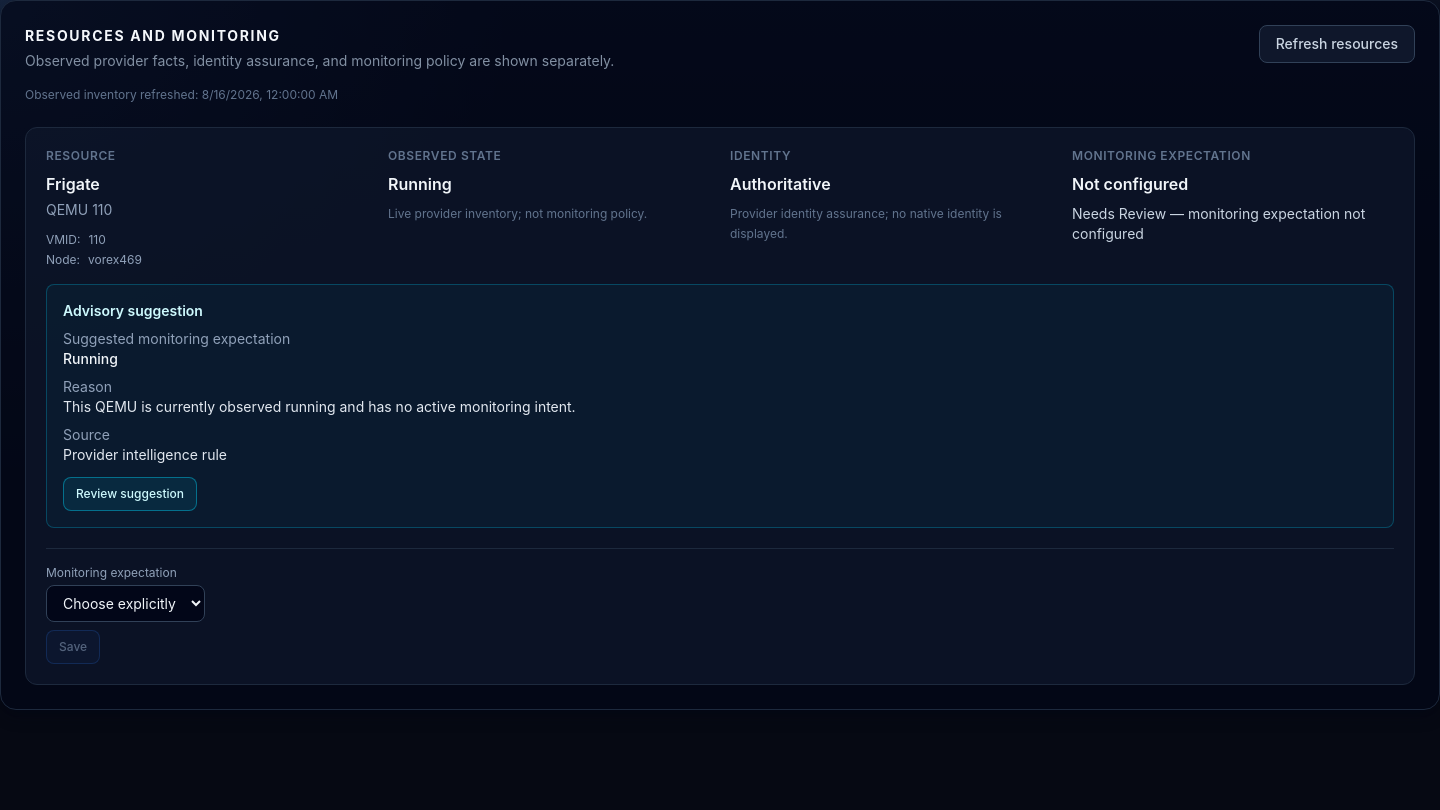
ProviderResources Provider Intent flow › reviews advisory state locally and mutates only on explicit Save
Expected: the heading "Frigate" is shown, [46,174,100,194]
Expected: the text "Not configured" is shown, [1072,174,1188,194]
Click the button "Review suggestion": (130, 494) [63,477,197,511]
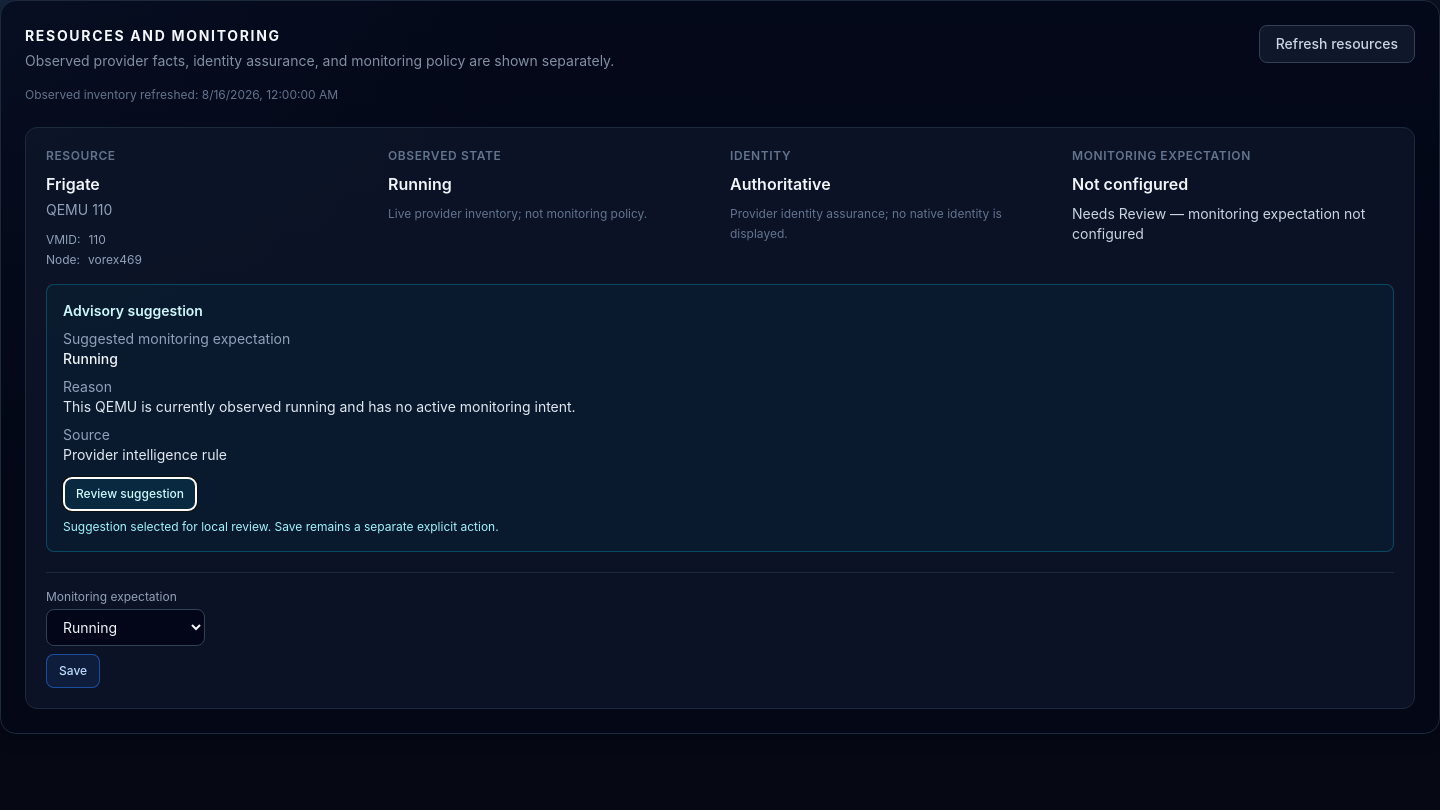
Expected: the text "Not configured" is shown, [1072,174,1188,194]
Result: the dropdown labelled "Monitoring expectation" shows "Running" at [46,609,205,646]
Click the button "Save": (73, 671) [46,654,100,688]
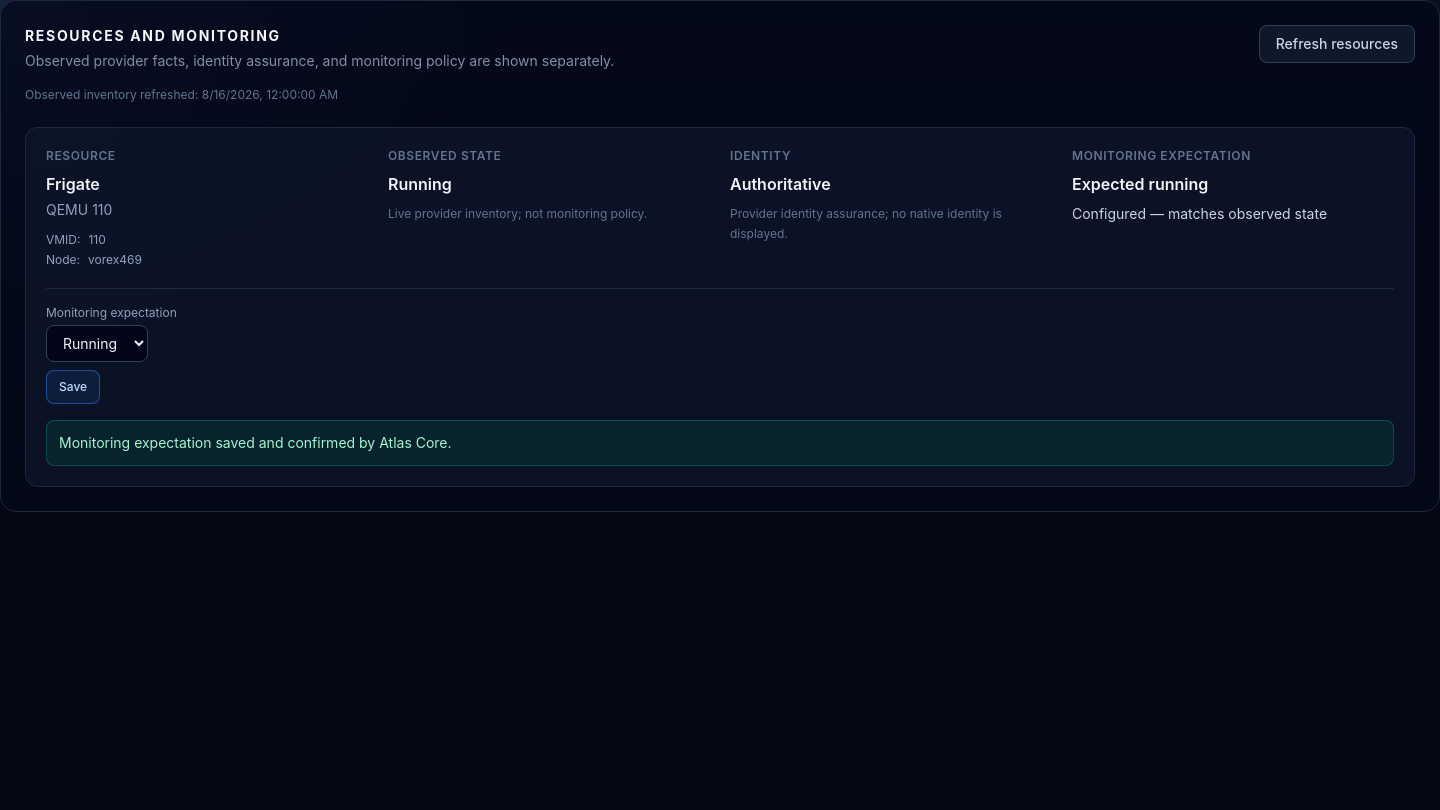
Result: the text "Expected running" is shown at [1072,174,1208,194]
Result: the heading "Advisory suggestion" is gone
